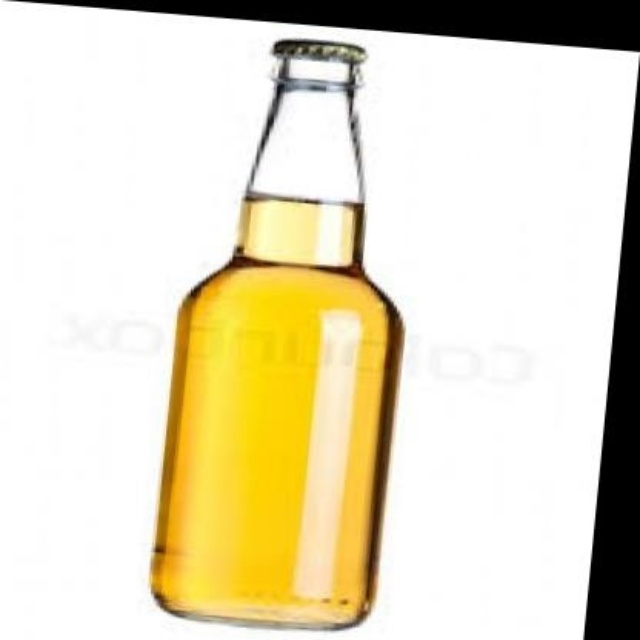trash: (151, 40, 402, 626)
